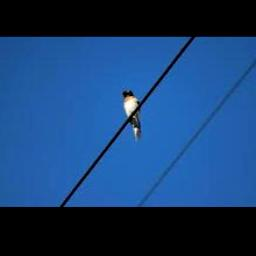Swallow: (122, 89, 143, 141)
